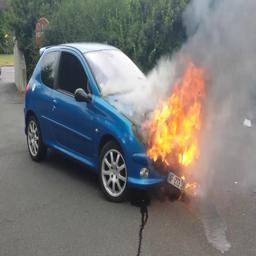fire: (146, 57, 206, 196)
